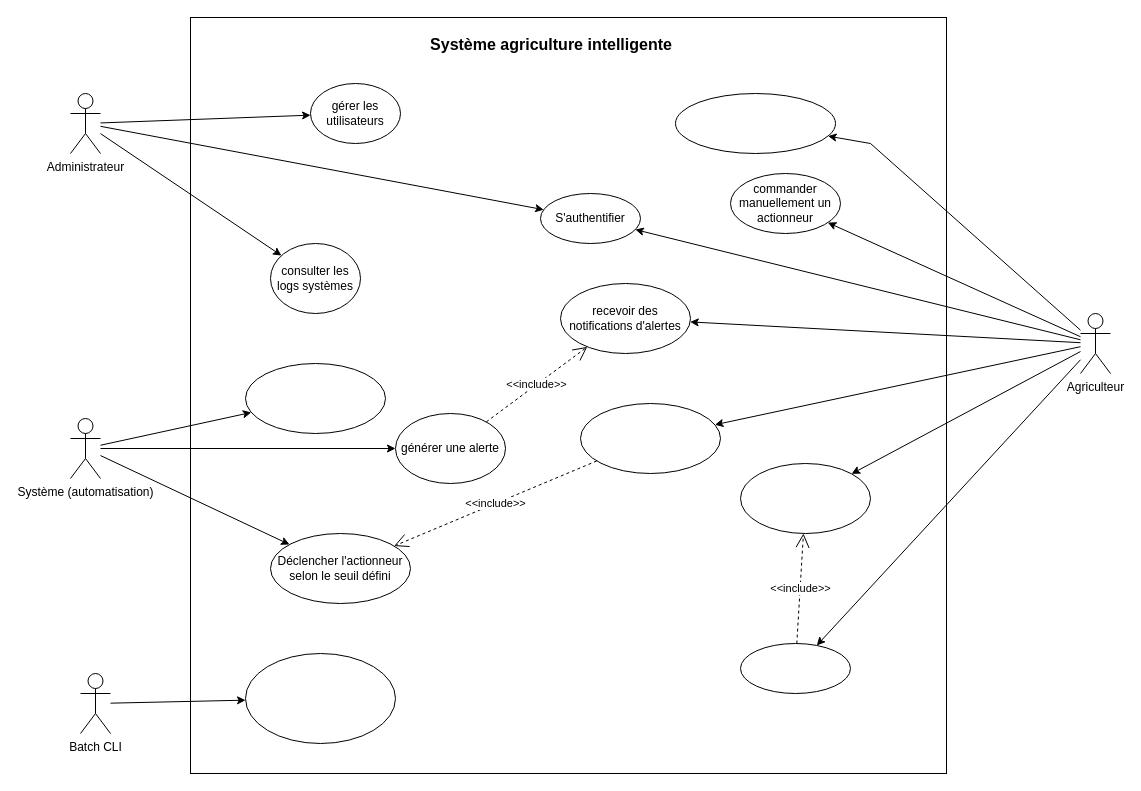
Image size: 1141x791. Some labels were removed from this diagram. Each missing label, with the centre of its shape:
collecter les données des capteurs: (x=315, y=398)
consulter l'historique des mesures: (x=795, y=668)
définir et modifier les seuils: (x=650, y=438)
envoyer une commande pour la gestion en masse sur les actionneurs: (x=320, y=698)
exporter l'historique en CSV: (x=805, y=498)
visualiser les données capteurs en temps réel: (x=755, y=123)
